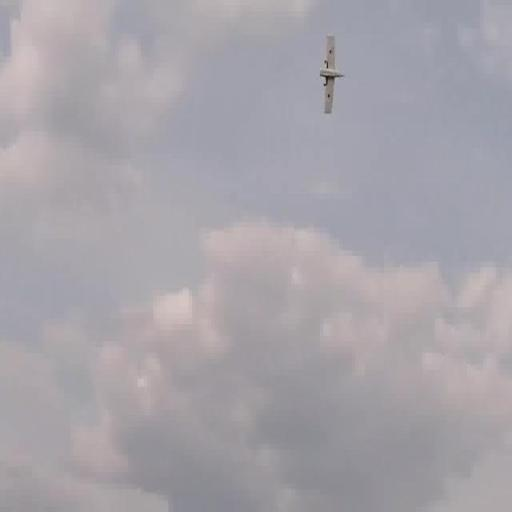uav: (319, 26, 348, 124)
